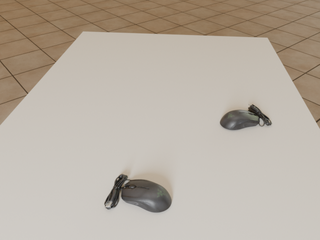mouse: (104, 174, 172, 213), (220, 104, 272, 130)
